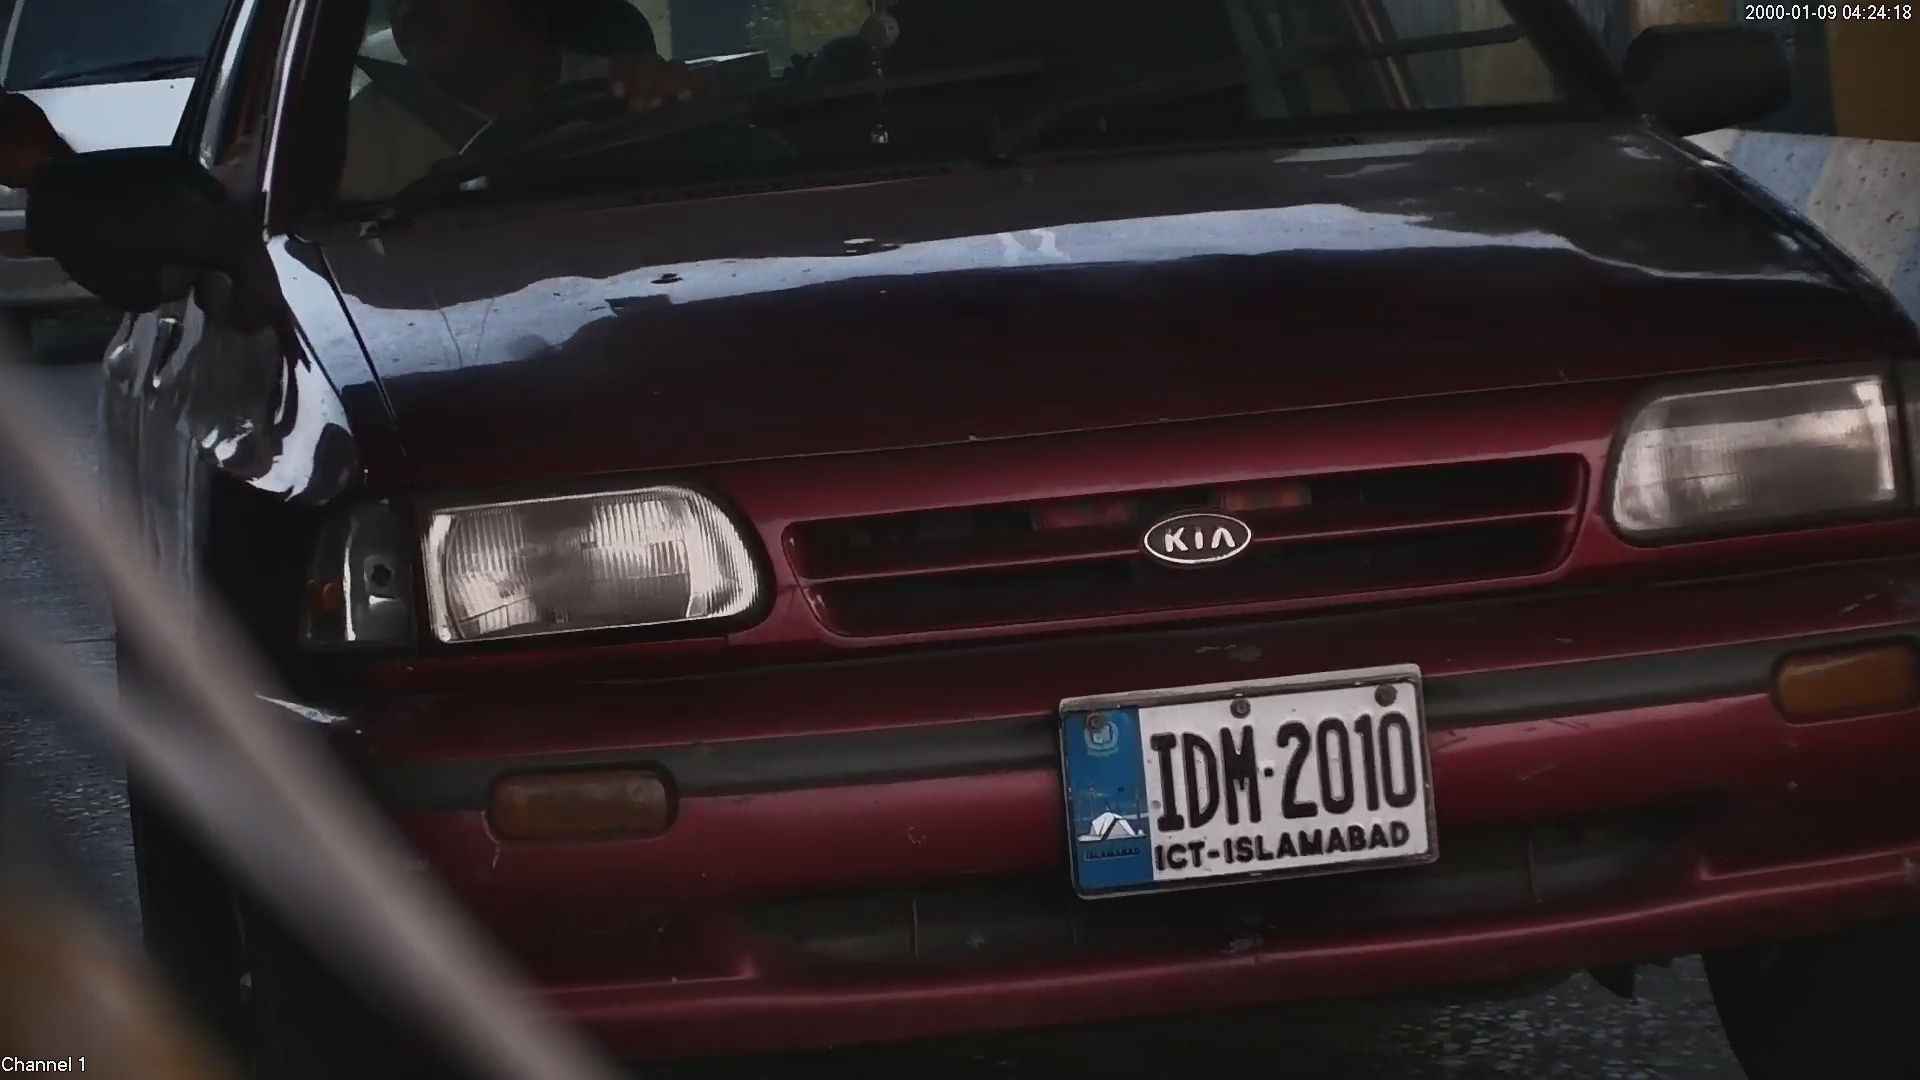Number_Plate: (1032, 659, 1469, 901)
Undefined: (334, 492, 760, 644), (1610, 373, 1919, 540), (473, 762, 680, 844), (1765, 636, 1919, 723), (1139, 501, 1258, 566)
